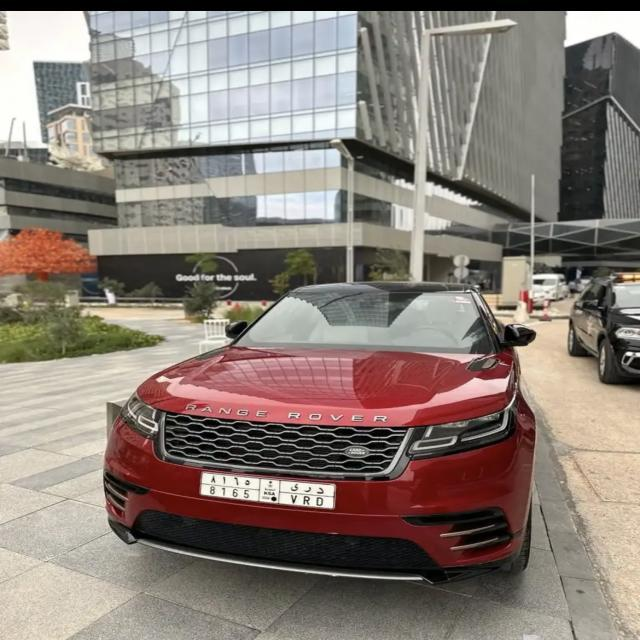license_plate: (199, 472, 339, 514)
